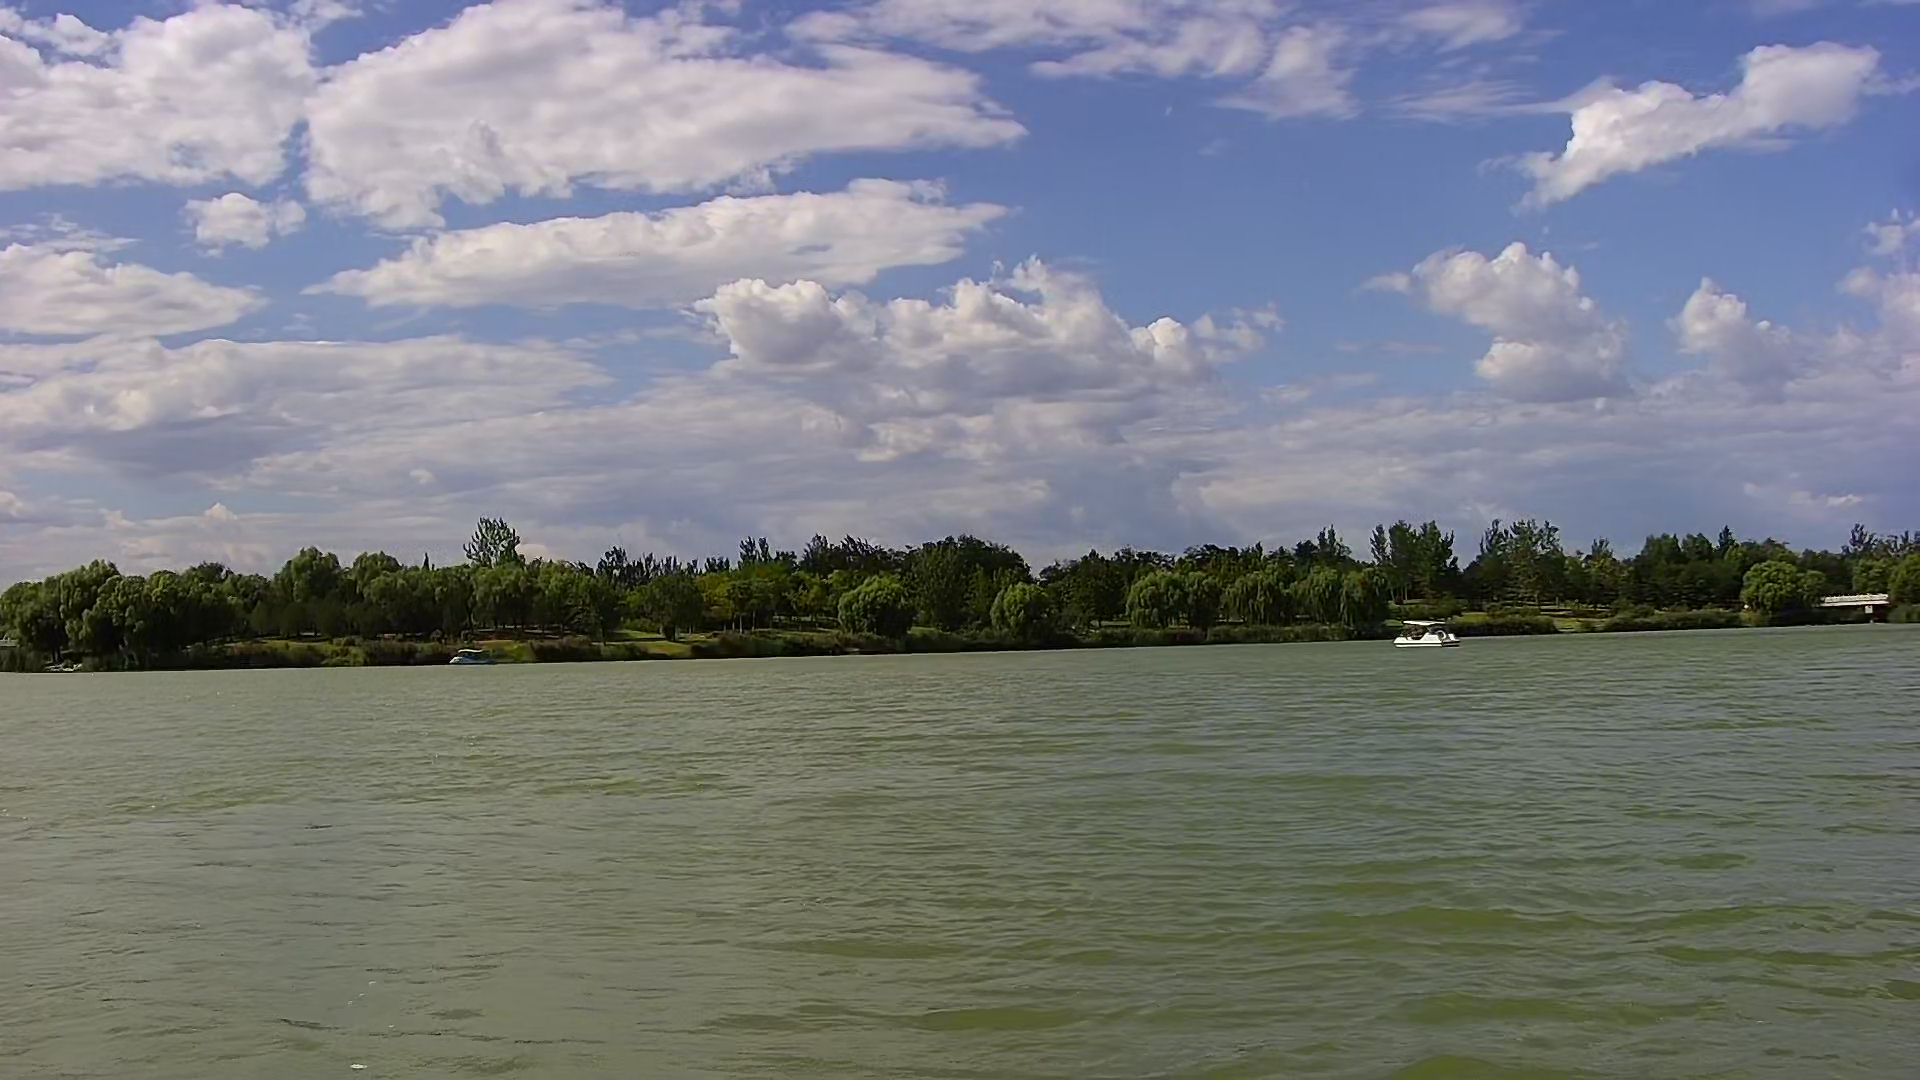boat: (1391, 611, 1458, 651), (442, 642, 504, 667)
